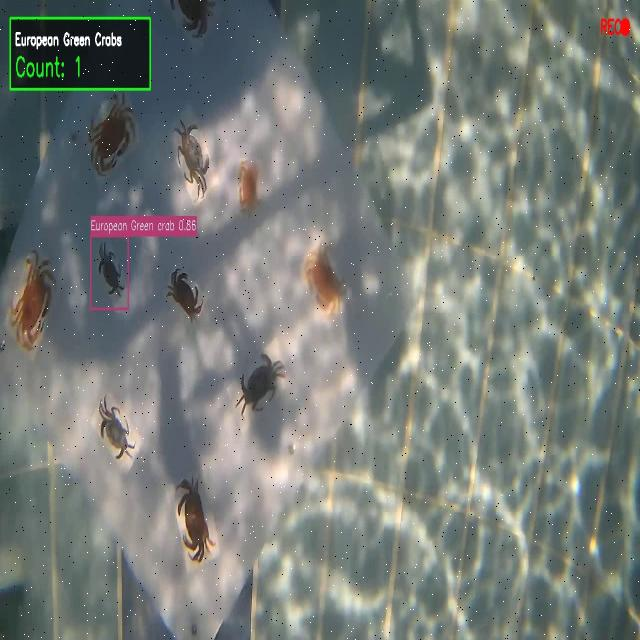European_Green_Crab: (229, 340, 292, 431), (166, 104, 220, 210), (88, 388, 144, 479), (92, 237, 128, 308)
